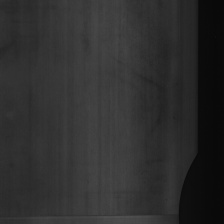crescent_gap: (173, 133, 201, 224), (0, 209, 183, 221)
